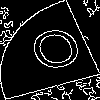O: (25, 25, 91, 82)
